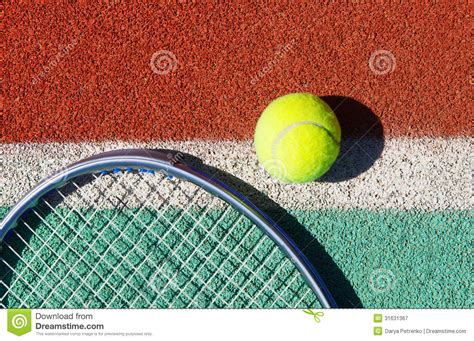tennis_ball: (254, 92, 341, 183)
